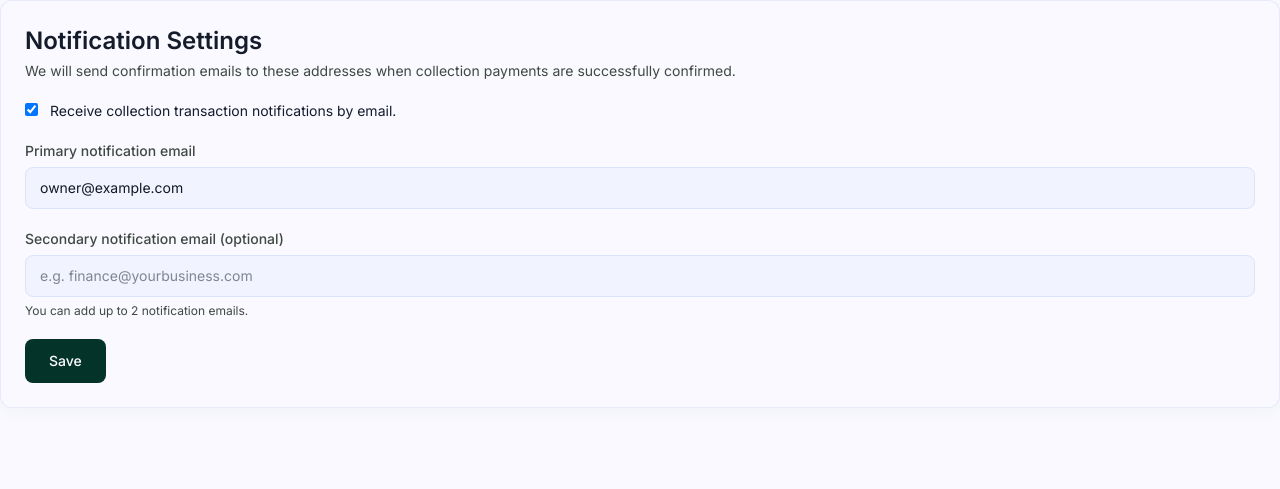
NotificationSettingsCard › shows the exact success message after a successful save
Replace the text in the field with placeholder "e.g. owner@yourbusiness.com" with "new@example.com": (640, 188) [25, 167, 1255, 209]
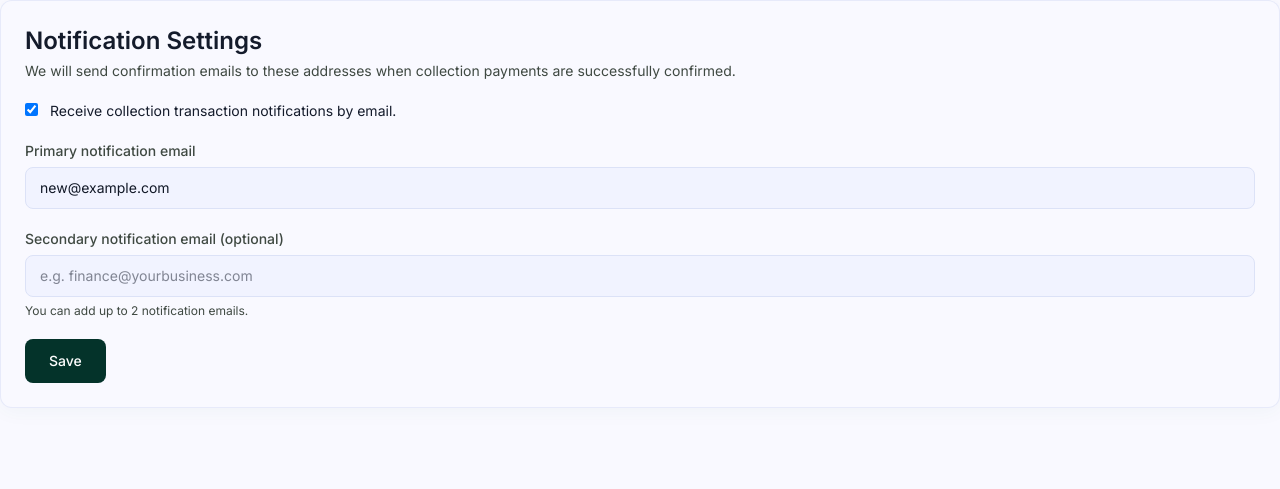
Click the button "Save": (65, 361) [25, 339, 106, 383]
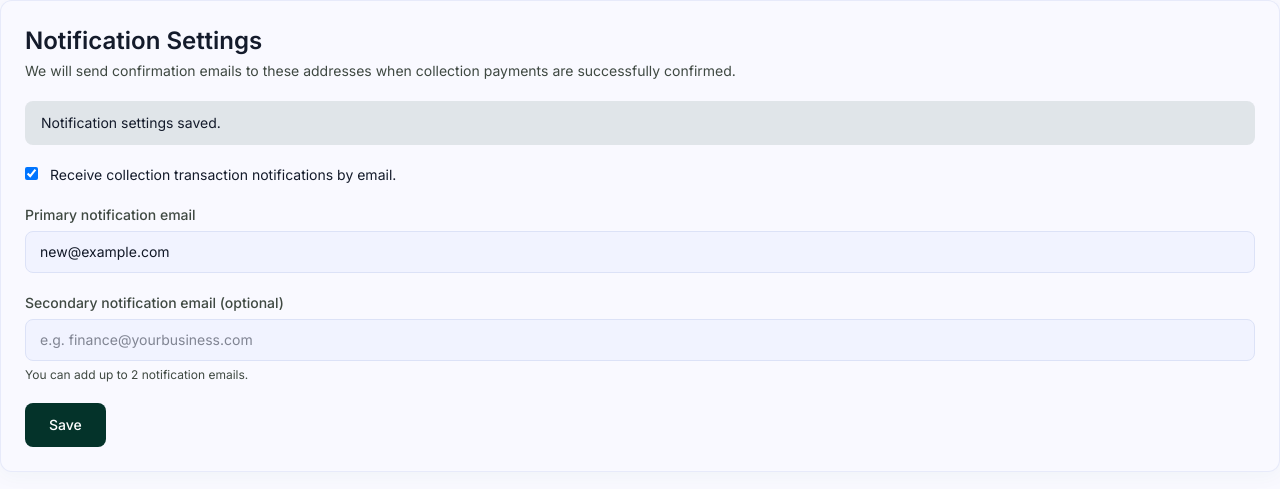
Check: the text "Notification settings saved." is shown, box [25, 101, 1255, 145]
